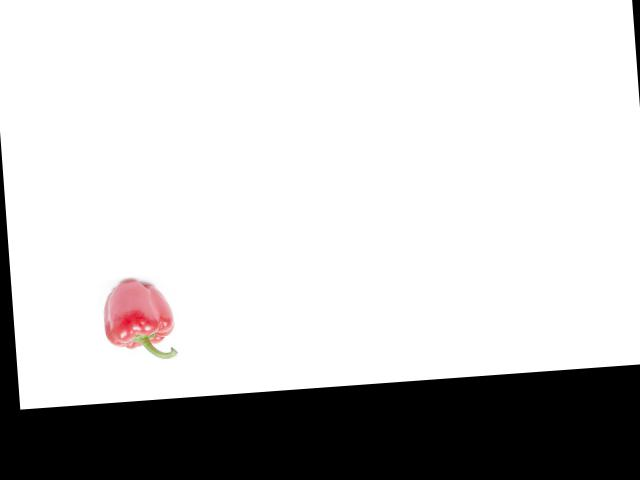bell_pepper: (95, 275, 182, 364)
